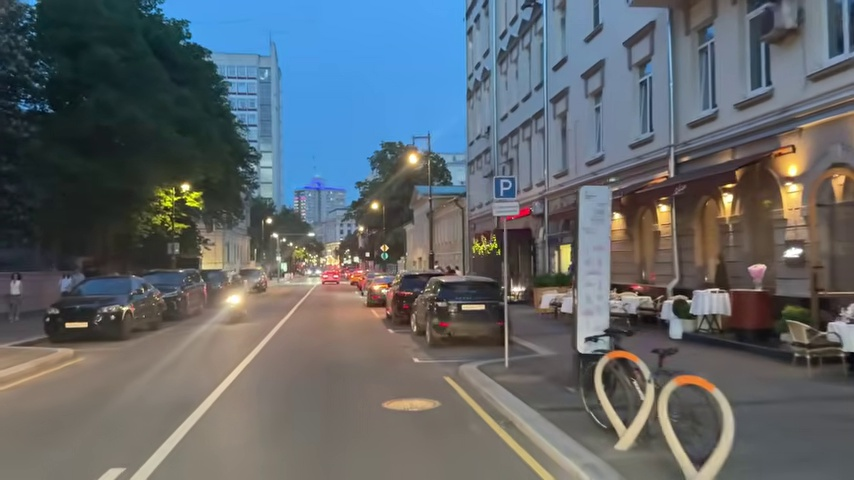acesa: (403, 150, 423, 170), (368, 200, 383, 215)
apagada: (551, 57, 567, 73)
